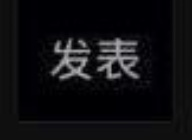Button: (1, 1, 191, 139)
